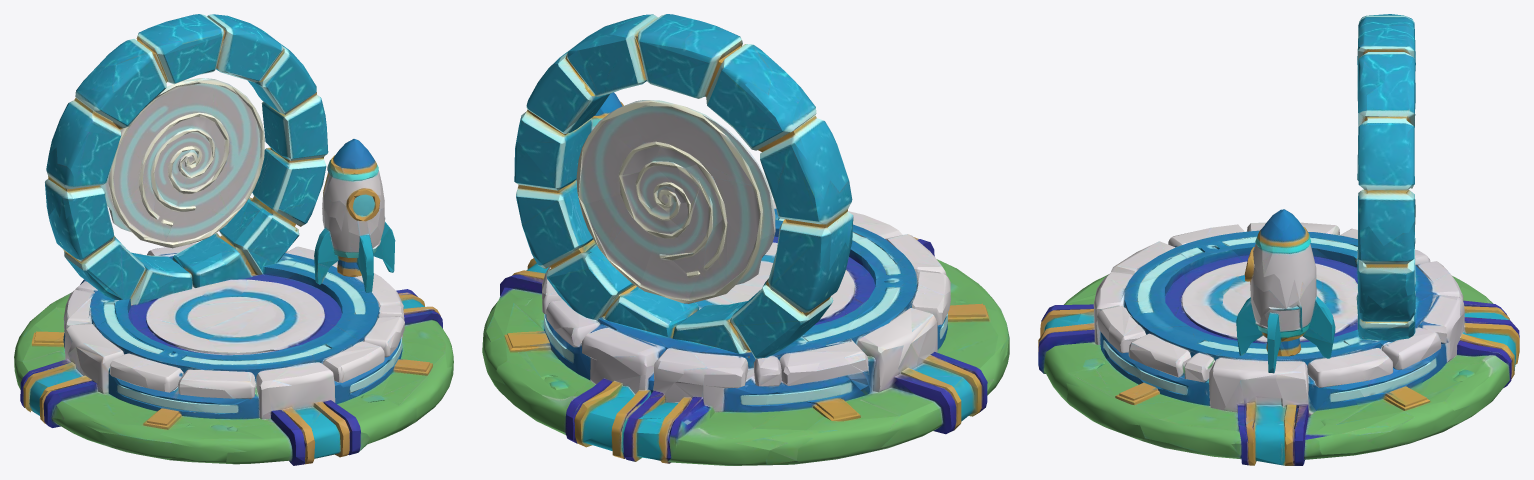
The model's file is launch.glb.
3 views of the same model, side by side, from view 1: azimuth 30°, elevation 25°; view 2: azimuth 150°, elevation 25°; view 3: azimuth 270°, elevation 25° (orthographic). The views are drawn at different scales.
Visible parts, largest first — view 1: Mesh_0; view 2: Mesh_0; view 3: Mesh_0.
Part boxes in pixels (left/top/right/bottom): Mesh_0: left=14, top=14, right=453, bottom=465; Mesh_0: left=482, top=14, right=1009, bottom=465; Mesh_0: left=1038, top=14, right=1519, bottom=465.
Size of the model in its own units: 1.9 by 1.47 by 1.9.
Materials: 1 (1 with a texture image).
